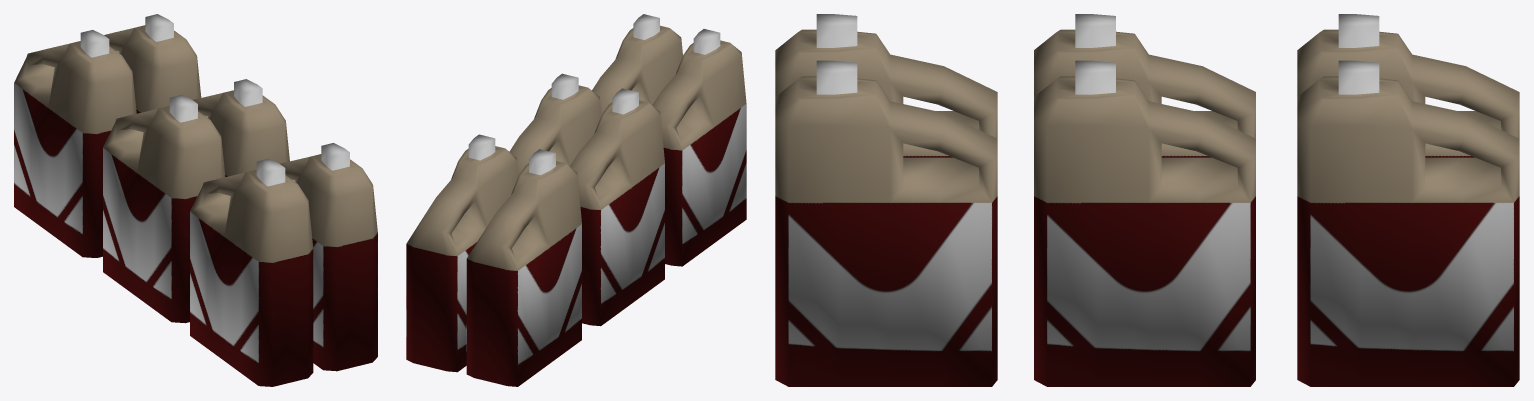
Rendered from vegOil_Large.fbx.
3 renders of one model, left to right at view 1: azimuth 30°, elevation 25°; view 2: azimuth 150°, elevation 25°; view 3: azimuth 270°, elevation 25°, orthographic. The views are drawn at different scales.
Visible parts, largest first — view 1: vegOil.005; view 2: vegOil.005; view 3: vegOil.005.
Part boxes in pixels (bbox=[...]): vegOil.005: bbox=[14, 14, 377, 386]; vegOil.005: bbox=[406, 14, 746, 386]; vegOil.005: bbox=[775, 14, 1519, 386].
Size of the model in its own units: 438 by 710 by 1596.
1 material, 1 textured.
